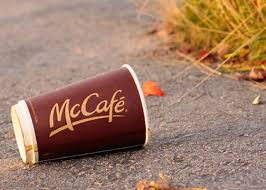paper_cup: (9, 62, 151, 166)
